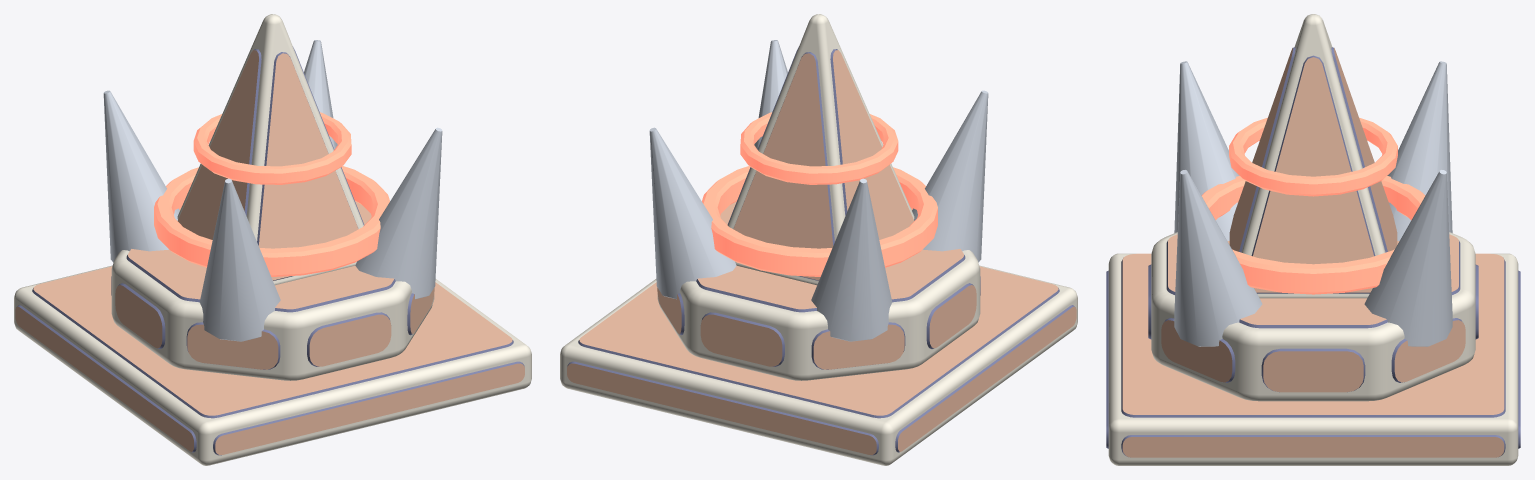
The model's file is R4X_DamageBooster.fbx.
The picture shows the model from 3 angles, left to right: view 1: azimuth 30°, elevation 25°; view 2: azimuth 150°, elevation 25°; view 3: azimuth 270°, elevation 25°; orthographic projection. The views are drawn at different scales.
Parts seen in each view (by area): view 1: R4X_DamageBooster_Body; view 2: R4X_DamageBooster_Body; view 3: R4X_DamageBooster_Body.
Part boxes in pixels (x1,y1,x2,y2): R4X_DamageBooster_Body: (14, 14, 531, 465); R4X_DamageBooster_Body: (560, 14, 1077, 465); R4X_DamageBooster_Body: (1106, 14, 1520, 465).
Size of the model in its own units: 0.52 by 0.512 by 0.52.
